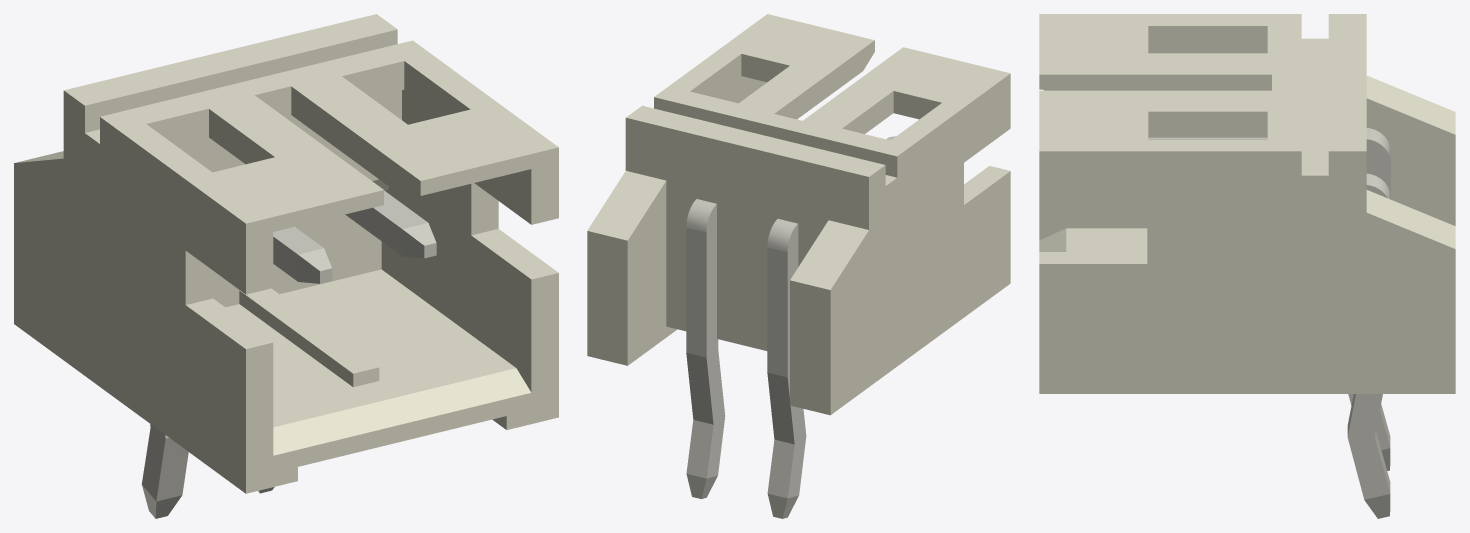
The model's file is kc-te_440055-2_1x02_p2.00mm_horizontal.glb.
3 views of the same model, side by side, from view 1: azimuth 30°, elevation 25°; view 2: azimuth 150°, elevation 25°; view 3: azimuth 270°, elevation 25° (orthographic). The views are drawn at different scales.
Visible parts, largest first — view 1: 0.75_0.75_0.6666666666666666_0, 0.6666666666666666_0.6666666666666666_0.5833333333333334_0.8; view 2: 0.75_0.75_0.6666666666666666_0, 0.6666666666666666_0.6666666666666666_0.5833333333333334_0.8; view 3: 0.75_0.75_0.6666666666666666_0, 0.6666666666666666_0.6666666666666666_0.5833333333333334_0.8.
Boxes of the visible parts, <box> form: 0.75_0.75_0.6666666666666666_0: <box>14,14,558,493</box>; 0.6666666666666666_0.6666666666666666_0.5833333333333334_0.8: <box>141,190,436,518</box>; 0.75_0.75_0.6666666666666666_0: <box>587,14,1010,415</box>; 0.6666666666666666_0.6666666666666666_0.5833333333333334_0.8: <box>686,136,895,518</box>; 0.75_0.75_0.6666666666666666_0: <box>1039,14,1455,393</box>; 0.6666666666666666_0.6666666666666666_0.5833333333333334_0.8: <box>1148,128,1390,518</box>.
Size of the model in its own units: 0.6001 by 0.8379 by 0.77.
